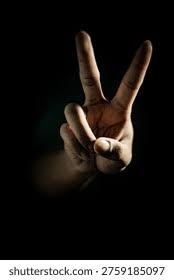peace_sign: (60, 23, 152, 180)
